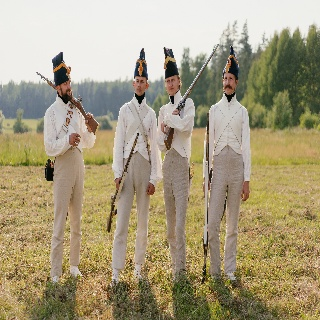rifle: (164, 42, 220, 150), (34, 69, 102, 134), (103, 131, 144, 235), (201, 111, 210, 283)
